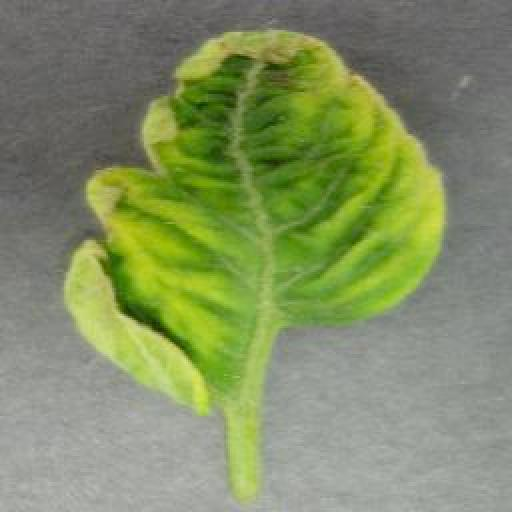disease_tomato: (66, 26, 448, 412)
